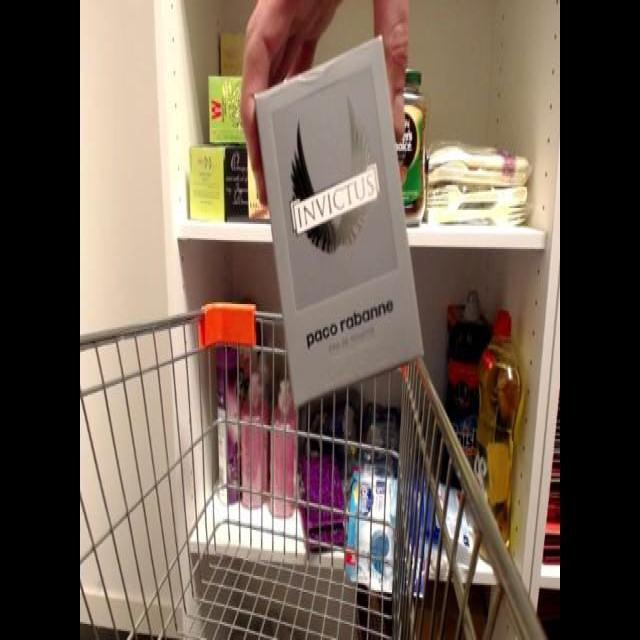Paco Rabanne: (252, 23, 444, 411)
